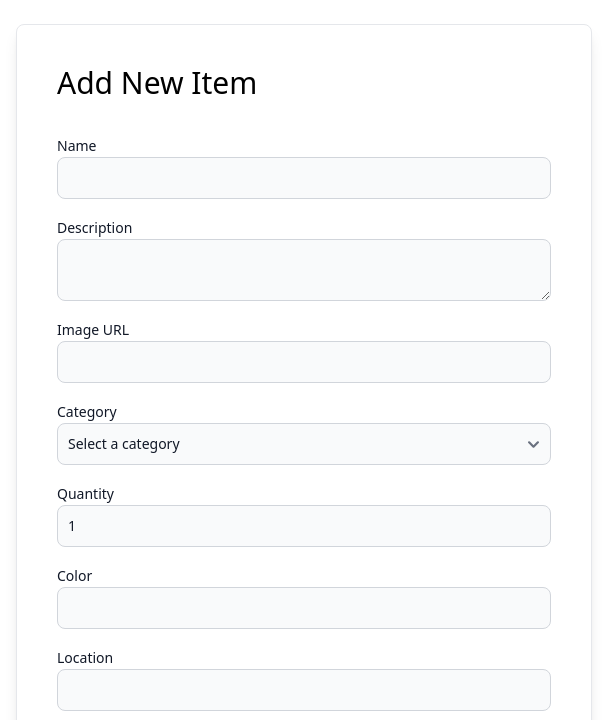
Test: NewItem Page › prevents form submission if quantity is less than 1
Expected: the heading "Add New Item" is shown, [57,62,257,103]
Replace the text in the number field labelled "Quantity" with "0". click: (304, 526)
box: [57,505,551,547]
(page scrolled)
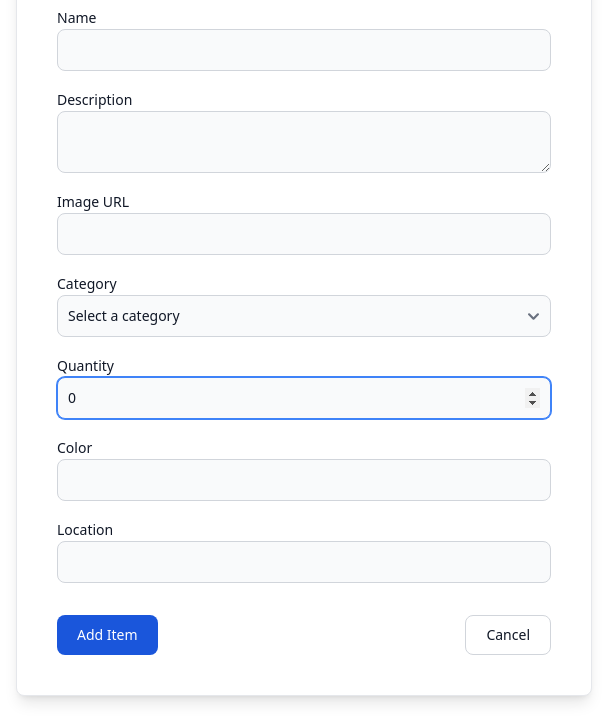
Click the button "Add Item". click: (107, 635)
box: [57,615,158,655]
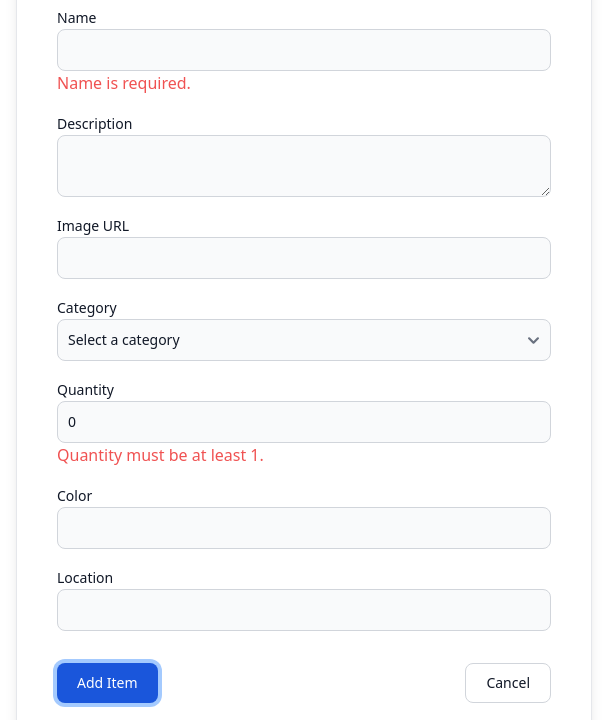
Now the text "Quantity must be at least 1." is shown, box [57,444,264,466]
